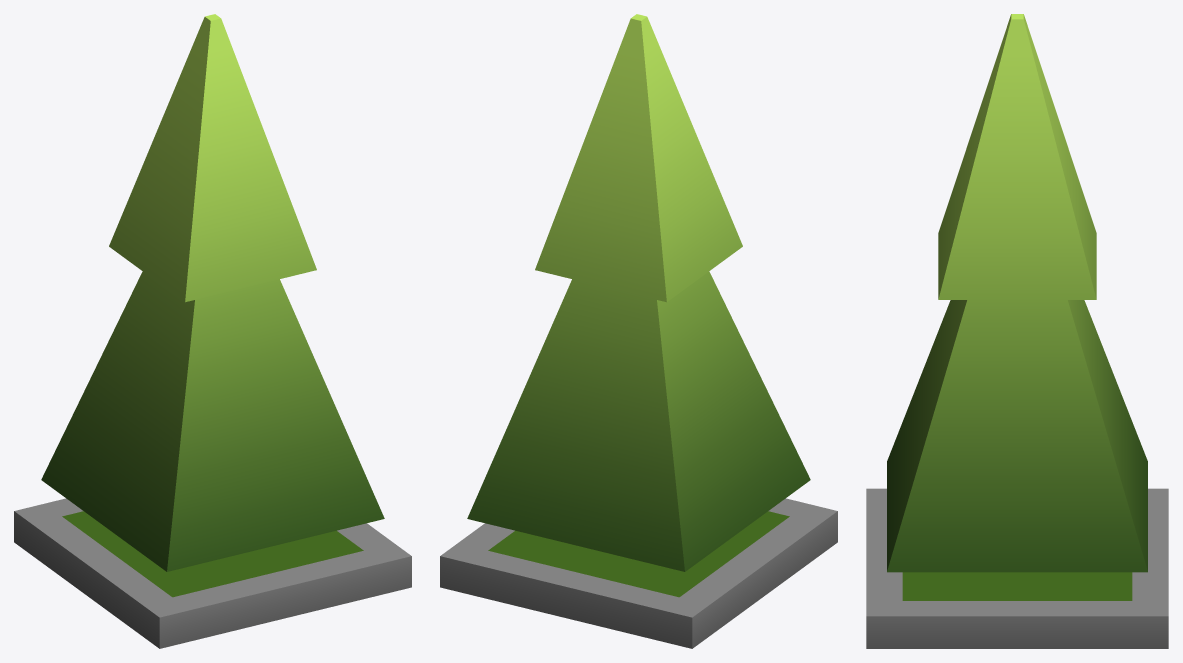
Rendered from tree 2.fbx.
3 renders of one model, left to right at view 1: azimuth 30°, elevation 25°; view 2: azimuth 150°, elevation 25°; view 3: azimuth 270°, elevation 25°, orthographic. The views are drawn at different scales.
Parts seen in each view (by area): view 1: tree_2; view 2: tree_2; view 3: tree_2.
Part boxes in pixels (x1,y1,x2,y2): tree_2: (14,14,411,648); tree_2: (440,14,837,648); tree_2: (866,14,1168,648).
Bounding box in the file's own units: 169 × 350 × 169.
Materials: 1 (1 with a texture image).
